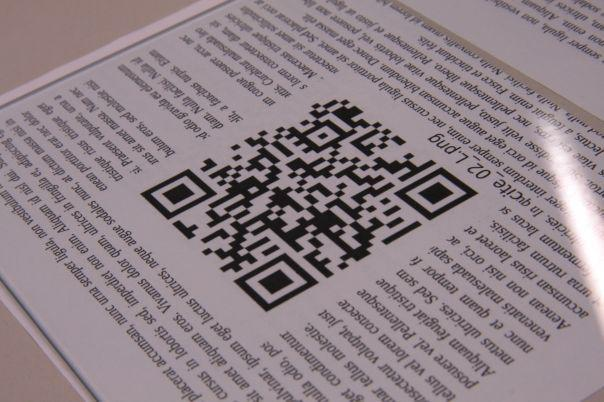Finder pattern: (233, 251, 319, 313), (397, 169, 478, 222), (141, 168, 217, 221)
